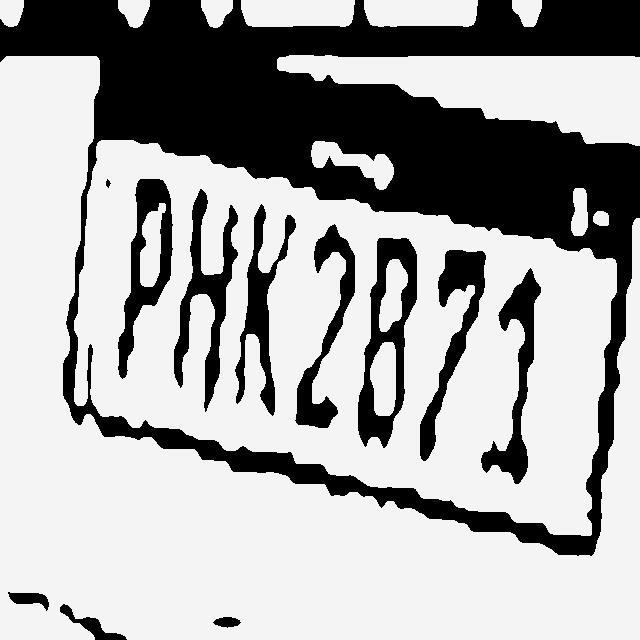1: (488, 260, 546, 488)
2: (296, 216, 357, 437)
7: (425, 242, 483, 467)
b: (361, 229, 417, 452)
h: (177, 185, 236, 412)
k: (235, 198, 293, 424)
p: (118, 172, 178, 391)
